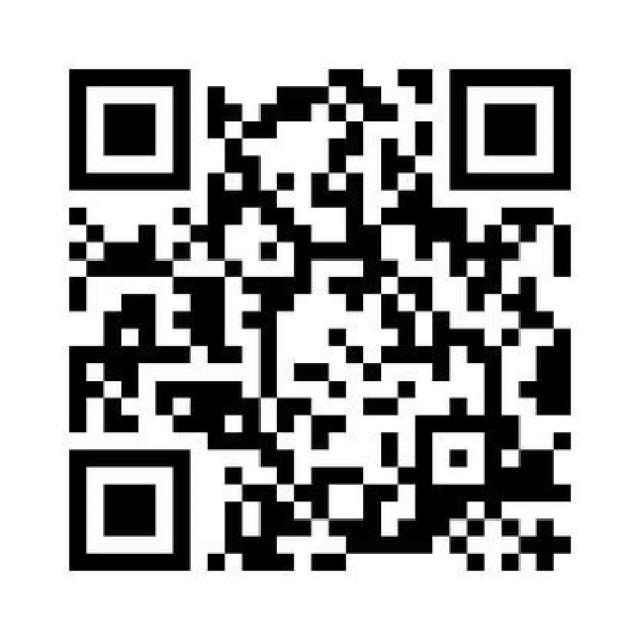QRCode: (59, 54, 589, 582)
